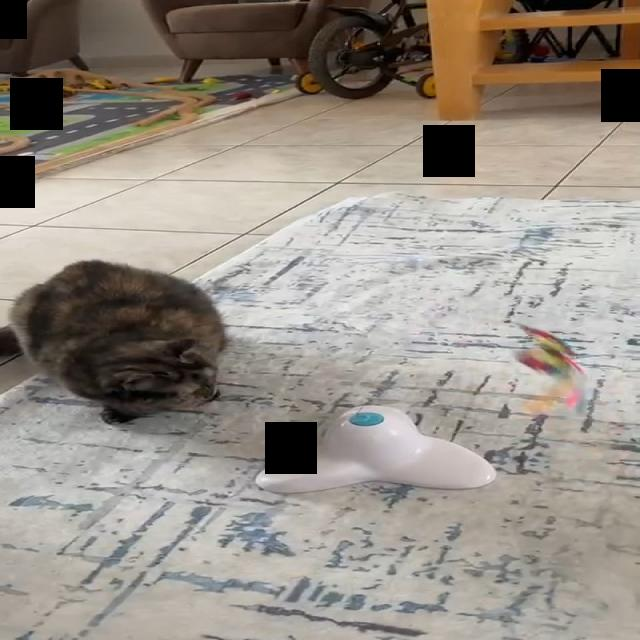authorized: (1, 258, 228, 425)
